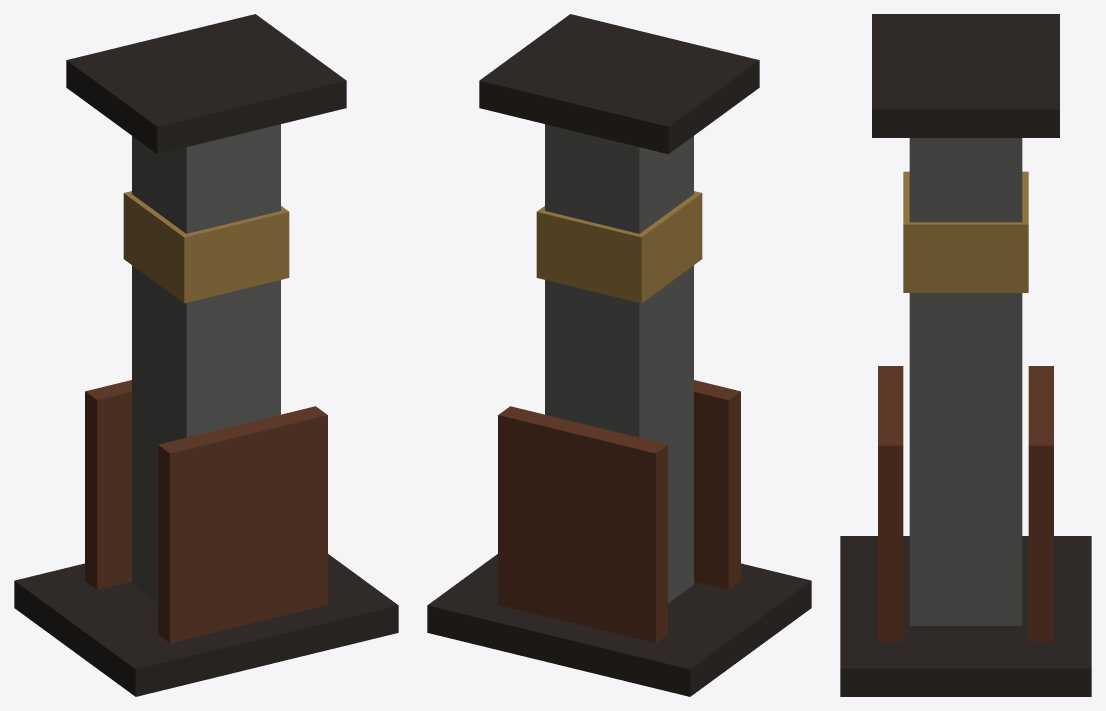
Rendered from wmount_riser.glb.
3 views of the same model, side by side, from view 1: azimuth 30°, elevation 25°; view 2: azimuth 150°, elevation 25°; view 3: azimuth 270°, elevation 25° (orthographic). The views are drawn at different scales.
Parts seen in each view (by area): view 1: wmount_riser; view 2: wmount_riser; view 3: wmount_riser.
Boxes of the visible parts, box(x1,y1,x2,y2) form: wmount_riser: box(14, 14, 398, 696); wmount_riser: box(427, 14, 811, 696); wmount_riser: box(840, 14, 1091, 696).
Bounding box in the file's own units: 0.5 × 1 × 0.4.
